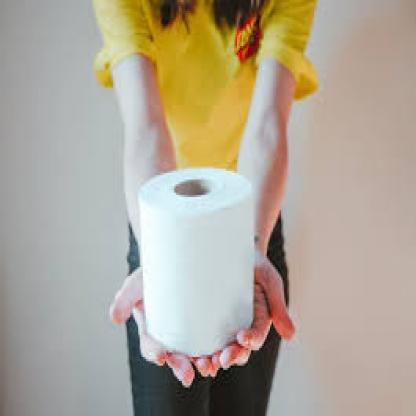tissue: (136, 164, 252, 344)
